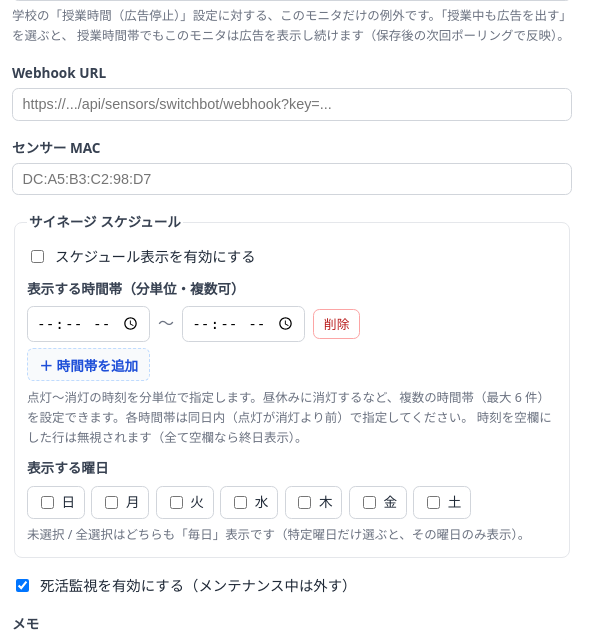
Test case: TvConfigEditForm 表示時間帯（分単位・複数窓） › 「時間帯を追加」で行が増える
(page scrolled)
Click the button "＋ 時間帯を追加". click: (89, 365)
box: x1=27 y1=348 x2=150 y2=382
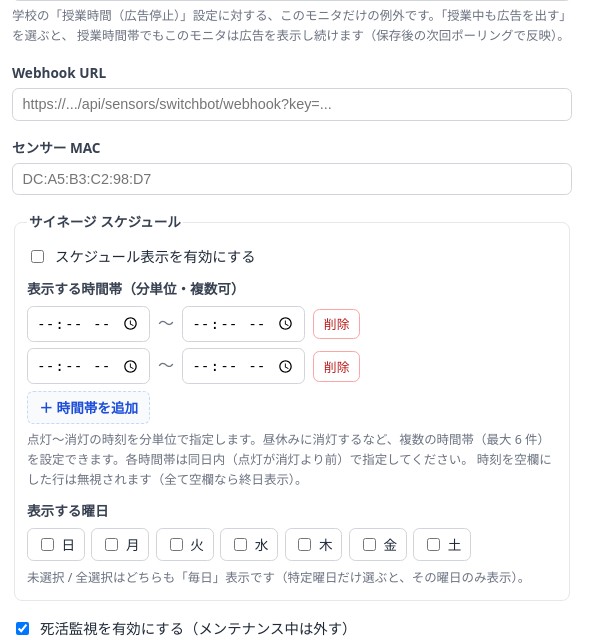
Expected: the time field named "時間帯2 点灯時刻" is shown, x1=27 y1=348 x2=150 y2=384
